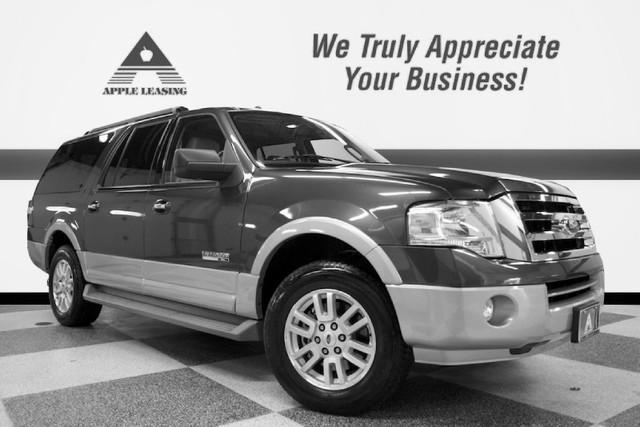car: (29, 108, 606, 416)
